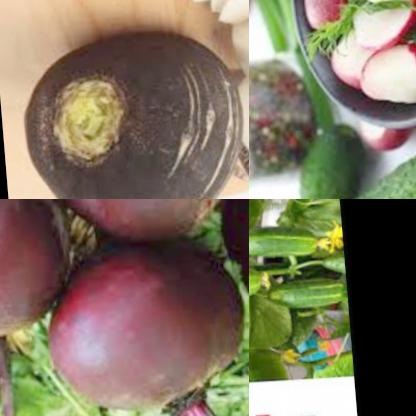beet: (37, 245, 244, 416), (23, 199, 245, 252), (0, 199, 71, 350), (209, 199, 249, 344)
cucumber: (282, 118, 357, 199), (316, 139, 416, 199), (257, 264, 345, 317), (249, 221, 320, 272)
rediska: (289, 0, 416, 114), (349, 109, 408, 162)
redka: (15, 29, 244, 199)
